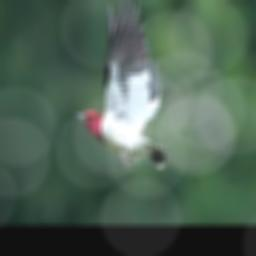Woodpecker: (74, 0, 172, 169)
